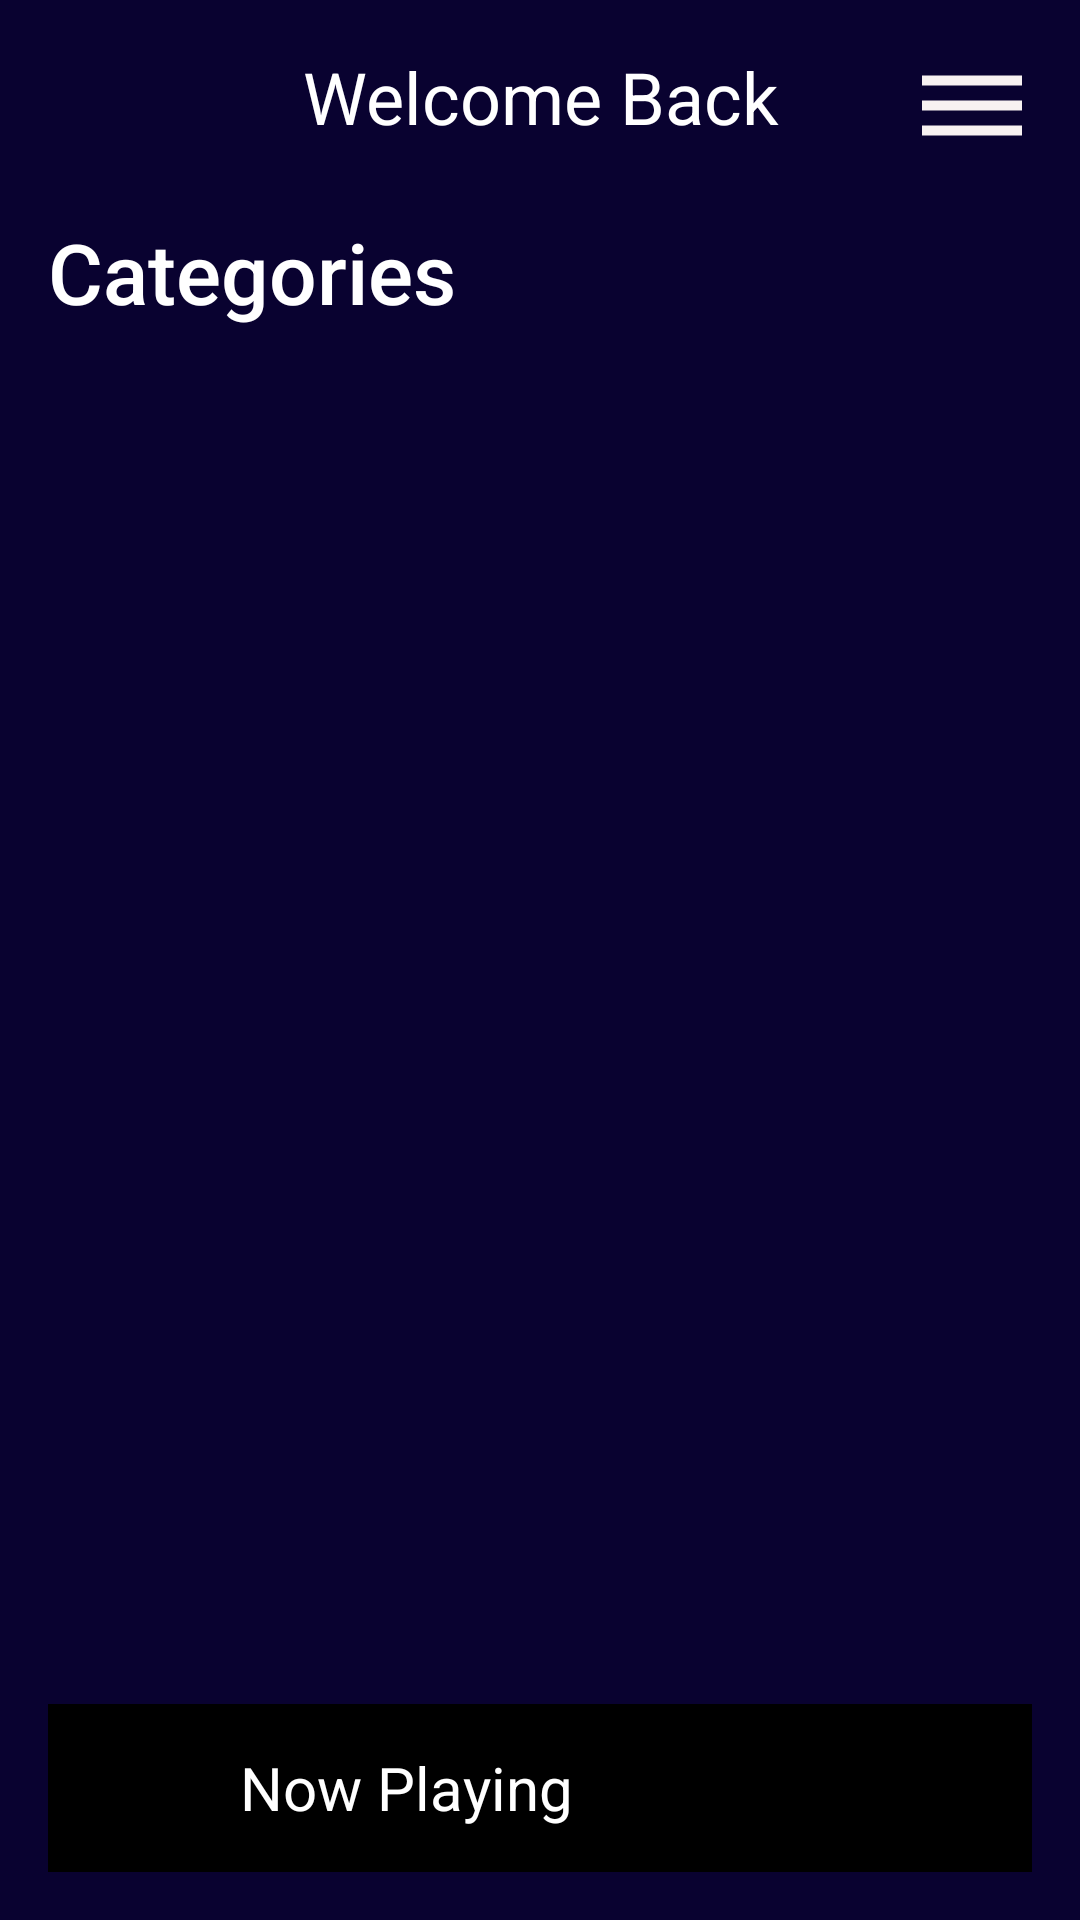

Icons on this 1080 x 1920 Android screen, each with the point to tap as (x=x, y=y):
menu: (x=972, y=105)
